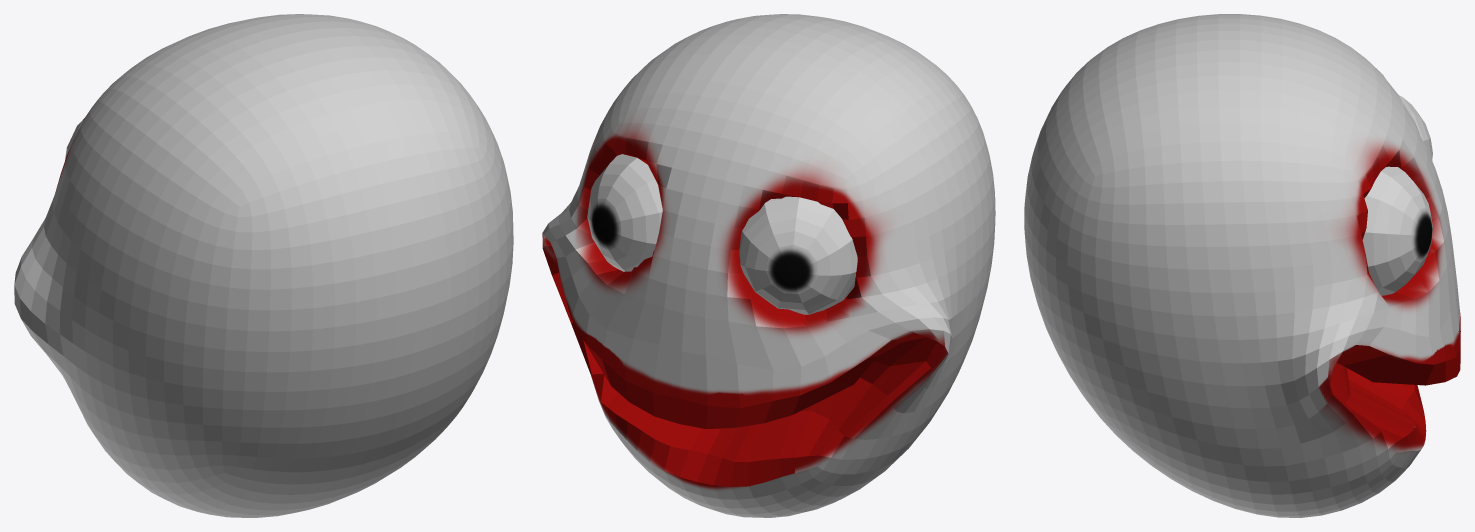
File: spider_face.fbx
3 views of the same model, side by side, from view 1: azimuth 30°, elevation 25°; view 2: azimuth 150°, elevation 25°; view 3: azimuth 270°, elevation 25° (orthographic). The views are drawn at different scales.
Visible parts, largest first — view 1: Cube.004; view 2: Cube.004, Sphere; view 3: Cube.004, Sphere.
Boxes of the visible parts, x1,y1,x2,y2 form: Cube.004: (14,14,513,517); Cube.004: (542,14,995,517); Sphere: (587,154,857,314); Cube.004: (1024,14,1460,517); Sphere: (1362,95,1432,295).
Bounding box in the file's own units: 1.05 × 1.1 × 0.9423.
